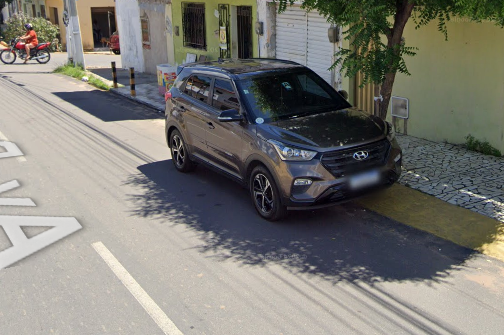car: (159, 50, 405, 247)
